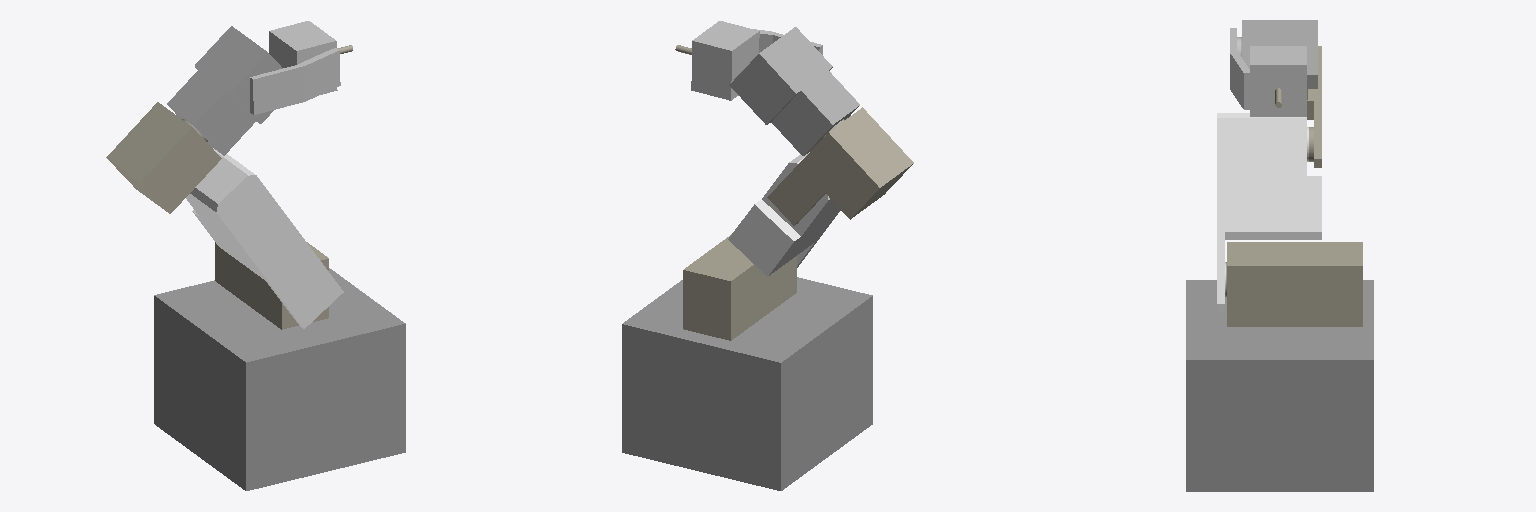
URDF robot description (dexter_simplify):
<?xml version="1.0" ?>
<!-- Generated using onshape-to-robot -->
<!-- Onshape https://cad.onshape.com/documents/dc3877dd7aeaeff0d6c9582a/w/7e4ff4bdb4907839a9954149/e/7f63cf5cd2085b46ecf2bc2e -->
<robot name="dexter_simplify">
  <!-- Link base -->
  <link name="base">
    <inertial>
      <origin xyz="0 0 0" rpy="0 0 0"/>
      <mass value="1e-09"/>
      <inertia ixx="1e-09" ixy="0" ixz="0" iyy="1e-09" iyz="0" izz="1e-09"/>
    </inertial>
    <!-- Part base -->
    <visual>
      <origin xyz="-0.07 0.07 0.1" rpy="0 -0 -5.55112e-16"/>
      <geometry>
        <mesh filename="package://dexter_description/urdf_dexter/assets/base.stl"/>
      </geometry>
      <material name="base_material">
        <color rgba="0.647059 0.647059 0.647059 1"/>
      </material>
    </visual>
    <collision>
      <origin xyz="-0.07 0.07 0.1" rpy="0 -0 -5.55112e-16"/>
      <geometry>
        <mesh filename="package://dexter_description/urdf_dexter/assets/base.stl"/>
      </geometry>
    </collision>
  </link>
  <!-- Link part1 -->
  <link name="part1">
    <inertial>
      <origin xyz="0 0 0" rpy="0 0 0"/>
      <mass value="1e-09"/>
      <inertia ixx="1e-09" ixy="0" ixz="0" iyy="1e-09" iyz="0" izz="1e-09"/>
    </inertial>
    <!-- Part part1 -->
    <visual>
      <origin xyz="0.021 0.039 -0.0035" rpy="3.14159 -0 -1.5708"/>
      <geometry>
        <mesh filename="package://dexter_description/urdf_dexter/assets/part1.stl"/>
      </geometry>
      <material name="part1_material">
        <color rgba="0.701961 0.682353 0.623529 1"/>
      </material>
    </visual>
    <collision>
      <origin xyz="0.021 0.039 -0.0035" rpy="3.14159 -0 -1.5708"/>
      <geometry>
        <mesh filename="package://dexter_description/urdf_dexter/assets/part1.stl"/>
      </geometry>
    </collision>
  </link>
  <!-- Link part2 -->
  <link name="part2">
    <inertial>
      <origin xyz="0 0 0" rpy="0 0 0"/>
      <mass value="1e-09"/>
      <inertia ixx="1e-09" ixy="0" ixz="0" iyy="1e-09" iyz="0" izz="1e-09"/>
    </inertial>
    <!-- Part part2 -->
    <visual>
      <origin xyz="0.0855095 0.0908742 -0.007" rpy="-2.64571e-15 -5.70983e-15 -2.15669"/>
      <geometry>
        <mesh filename="package://dexter_description/urdf_dexter/assets/part2.stl"/>
      </geometry>
      <material name="part2_material">
        <color rgba="0.917647 0.917647 0.917647 1"/>
      </material>
    </visual>
    <collision>
      <origin xyz="0.0855095 0.0908742 -0.007" rpy="-2.64571e-15 -5.70983e-15 -2.15669"/>
      <geometry>
        <mesh filename="package://dexter_description/urdf_dexter/assets/part2.stl"/>
      </geometry>
    </collision>
  </link>
  <!-- Link part3 -->
  <link name="part3">
    <inertial>
      <origin xyz="0 0 0" rpy="0 0 0"/>
      <mass value="1e-09"/>
      <inertia ixx="1e-09" ixy="0" ixz="0" iyy="1e-09" iyz="0" izz="1e-09"/>
    </inertial>
    <!-- Part part3 -->
    <visual>
      <origin xyz="-0.0250016 -0.0454414 -0.0095" rpy="1.5708 5.58219e-15 -3.05124"/>
      <geometry>
        <mesh filename="package://dexter_description/urdf_dexter/assets/part3.stl"/>
      </geometry>
      <material name="part3_material">
        <color rgba="0.701961 0.682353 0.623529 1"/>
      </material>
    </visual>
    <collision>
      <origin xyz="-0.0250016 -0.0454414 -0.0095" rpy="1.5708 5.58219e-15 -3.05124"/>
      <geometry>
        <mesh filename="package://dexter_description/urdf_dexter/assets/part3.stl"/>
      </geometry>
    </collision>
  </link>
  <!-- Link part4 -->
  <link name="part4">
    <inertial>
      <origin xyz="0 0 0" rpy="0 0 0"/>
      <mass value="1e-09"/>
      <inertia ixx="1e-09" ixy="0" ixz="0" iyy="1e-09" iyz="0" izz="1e-09"/>
    </inertial>
    <!-- Part part4 -->
    <visual>
      <origin xyz="-0.021 -0.021 -0.0005" rpy="3.14159 -1.5708 0"/>
      <geometry>
        <mesh filename="package://dexter_description/urdf_dexter/assets/part4.stl"/>
      </geometry>
      <material name="part4_material">
        <color rgba="0.701961 0.701961 0.701961 1"/>
      </material>
    </visual>
    <collision>
      <origin xyz="-0.021 -0.021 -0.0005" rpy="3.14159 -1.5708 0"/>
      <geometry>
        <mesh filename="package://dexter_description/urdf_dexter/assets/part4.stl"/>
      </geometry>
    </collision>
  </link>
  <!-- Link part5 -->
  <link name="part5">
    <inertial>
      <origin xyz="0 0 0" rpy="0 0 0"/>
      <mass value="1e-09"/>
      <inertia ixx="1e-09" ixy="0" ixz="0" iyy="1e-09" iyz="0" izz="1e-09"/>
    </inertial>
    <!-- Part part5 -->
    <visual>
      <origin xyz="-0.0453957 -0.0161248 0.00678111" rpy="-1.5708 -2.94915e-16 -2.48366"/>
      <geometry>
        <mesh filename="package://dexter_description/urdf_dexter/assets/part5.stl"/>
      </geometry>
      <material name="part5_material">
        <color rgba="0.8 0.8 0.8 1"/>
      </material>
    </visual>
    <collision>
      <origin xyz="-0.0453957 -0.0161248 0.00678111" rpy="-1.5708 -2.94915e-16 -2.48366"/>
      <geometry>
        <mesh filename="package://dexter_description/urdf_dexter/assets/part5.stl"/>
      </geometry>
    </collision>
  </link>
  <!-- Link part6 -->
  <link name="part6">
    <inertial>
      <origin xyz="0 0 0" rpy="0 0 0"/>
      <mass value="1e-09"/>
      <inertia ixx="1e-09" ixy="0" ixz="0" iyy="1e-09" iyz="0" izz="1e-09"/>
    </inertial>
    <!-- Part part6 -->
    <visual>
      <origin xyz="0 0 -6.93889e-18" rpy="-3.14159 -3.97341e-19 2.55681e-19"/>
      <geometry>
        <mesh filename="package://dexter_description/urdf_dexter/assets/part6.stl"/>
      </geometry>
      <material name="part6_material">
        <color rgba="0.701961 0.682353 0.623529 1"/>
      </material>
    </visual>
    <collision>
      <origin xyz="0 0 -6.93889e-18" rpy="-3.14159 -3.97341e-19 2.55681e-19"/>
      <geometry>
        <mesh filename="package://dexter_description/urdf_dexter/assets/part6.stl"/>
      </geometry>
    </collision>
  </link>
  <!-- tool_link -->
  <link name="tool_link"/>

<!--.........................-->

  <!-- Joint from part6 to tool_link -->
  <joint name="hand_tool_joint" type="fixed">
    <parent link="part6" />
    <child link="tool_link" />
    <origin xyz="0 0 -0.03" rpy="3.14159 0 0" />
  </joint>

  <!-- Joint from part5 to part6 -->
  <joint name="part5" type="revolute">
    <origin xyz="-0.0490579 -0.0379121 0.028" rpy="-1.5708 -0.025367 -0.91286"/>
    <parent link="part5"/>
    <child link="part6"/>
    <axis xyz="0 0 1"/>
    <limit effort="10" velocity="10" lower="-3.141592653589793" upper="3.141592653589793"/>
  </joint>
  <!-- Joint from part4 to part5 -->
  <joint name="part4" type="revolute">
    <origin xyz="-5.55112e-17 -0.029 -0.057529" rpy="-1.5708 -1.5708 0"/>
    <parent link="part4"/>
    <child link="part5"/>
    <axis xyz="0 0 1"/>
    <limit effort="10" velocity="10" lower="-3.141592653589793" upper="3.141592653589793"/>
  </joint>
  <!-- Joint from part3 to part4 -->
  <joint name="part3" type="revolute">
    <origin xyz="-0.05133 0.0124189 0.021557" rpy="-1.5708 5.58219e-15 -3.05124"/>
    <parent link="part3"/>
    <child link="part4"/>
    <axis xyz="0 0 1"/>
    <limit effort="10" velocity="10" lower="-3.141592653589793" upper="3.141592653589793"/>
  </joint>
  <!-- Joint from part2 to part3 -->
  <joint name="part2" type="revolute">
    <origin xyz="0.0564001 0.0849884 0.0615" rpy="3.14159 -5.70983e-15 -2.15669"/>
    <parent link="part2"/>
    <child link="part3"/>
    <axis xyz="0 0 1"/>
    <limit effort="10" velocity="10" lower="-3.141592653589793" upper="3.141592653589793"/>
  </joint>
  <!-- Joint from part1 to part2 -->
  <joint name="part1" type="revolute">
    <origin xyz="3.00454e-16 0.04 -0.032557" rpy="-1.5708 -0 3.14159"/>
    <parent link="part1"/>
    <child link="part2"/>
    <axis xyz="0 0 1"/>
    <limit effort="10" velocity="10" lower="-3.141592653589793" upper="3.141592653589793"/>
  </joint>
  <!-- Joint from base to part1 -->
  <joint name="base" type="revolute">
    <origin xyz="-3.05311e-16 -7.91034e-16 0.108" rpy="3.14159 -0 -5.55112e-16"/>
    <parent link="base"/>
    <child link="part1"/>
    <axis xyz="0 0 1"/>
    <limit effort="10" velocity="10" lower="-3.141592653589793" upper="3.141592653589793"/>
  </joint>
</robot>

--- What the picture shows (computed from the rendered views, not written in the file) ---
Views: 3 orthographic renders of the robot side by side, from view 1: azimuth 30°, elevation 25°; view 2: azimuth 150°, elevation 25°; view 3: azimuth 270°, elevation 25°.
Model dexter_simplify with 8 links and 7 joints (6 revolute, 1 fixed), rooted at base, posed every joint at zero.
Links seen in each view (by area): view 1: base, part2, part4, part3, part5, part1; view 2: base, part4, part3, part1, part2, part5; view 3: base, part2, part1, part5, part4, part3.
Boxes of the visible links, left/top/right/bottom form: base: left=154, top=268, right=405, bottom=490; part2: left=186, top=148, right=343, bottom=328; part4: left=167, top=26, right=282, bottom=155; part3: left=106, top=102, right=221, bottom=213; part5: left=250, top=21, right=340, bottom=114; part1: left=215, top=242, right=328, bottom=329; base: left=622, top=277, right=872, bottom=490; part4: left=729, top=27, right=859, bottom=155; part3: left=767, top=107, right=913, bottom=225; part1: left=683, top=234, right=796, bottom=340; part2: left=728, top=152, right=840, bottom=276; part5: left=691, top=21, right=822, bottom=100; base: left=1186, top=280, right=1373, bottom=491; part2: left=1217, top=113, right=1321, bottom=311; part1: left=1226, top=242, right=1362, bottom=326; part5: left=1230, top=28, right=1306, bottom=116; part4: left=1241, top=20, right=1317, bottom=99; part3: left=1307, top=46, right=1321, bottom=167.
Bounding box of the posed robot: 0.2044 × 0.14 × 0.3407 m (x, y, z).
Meshes: 7 distinct files referenced, 7 mesh visuals loaded (7 binary STL).
